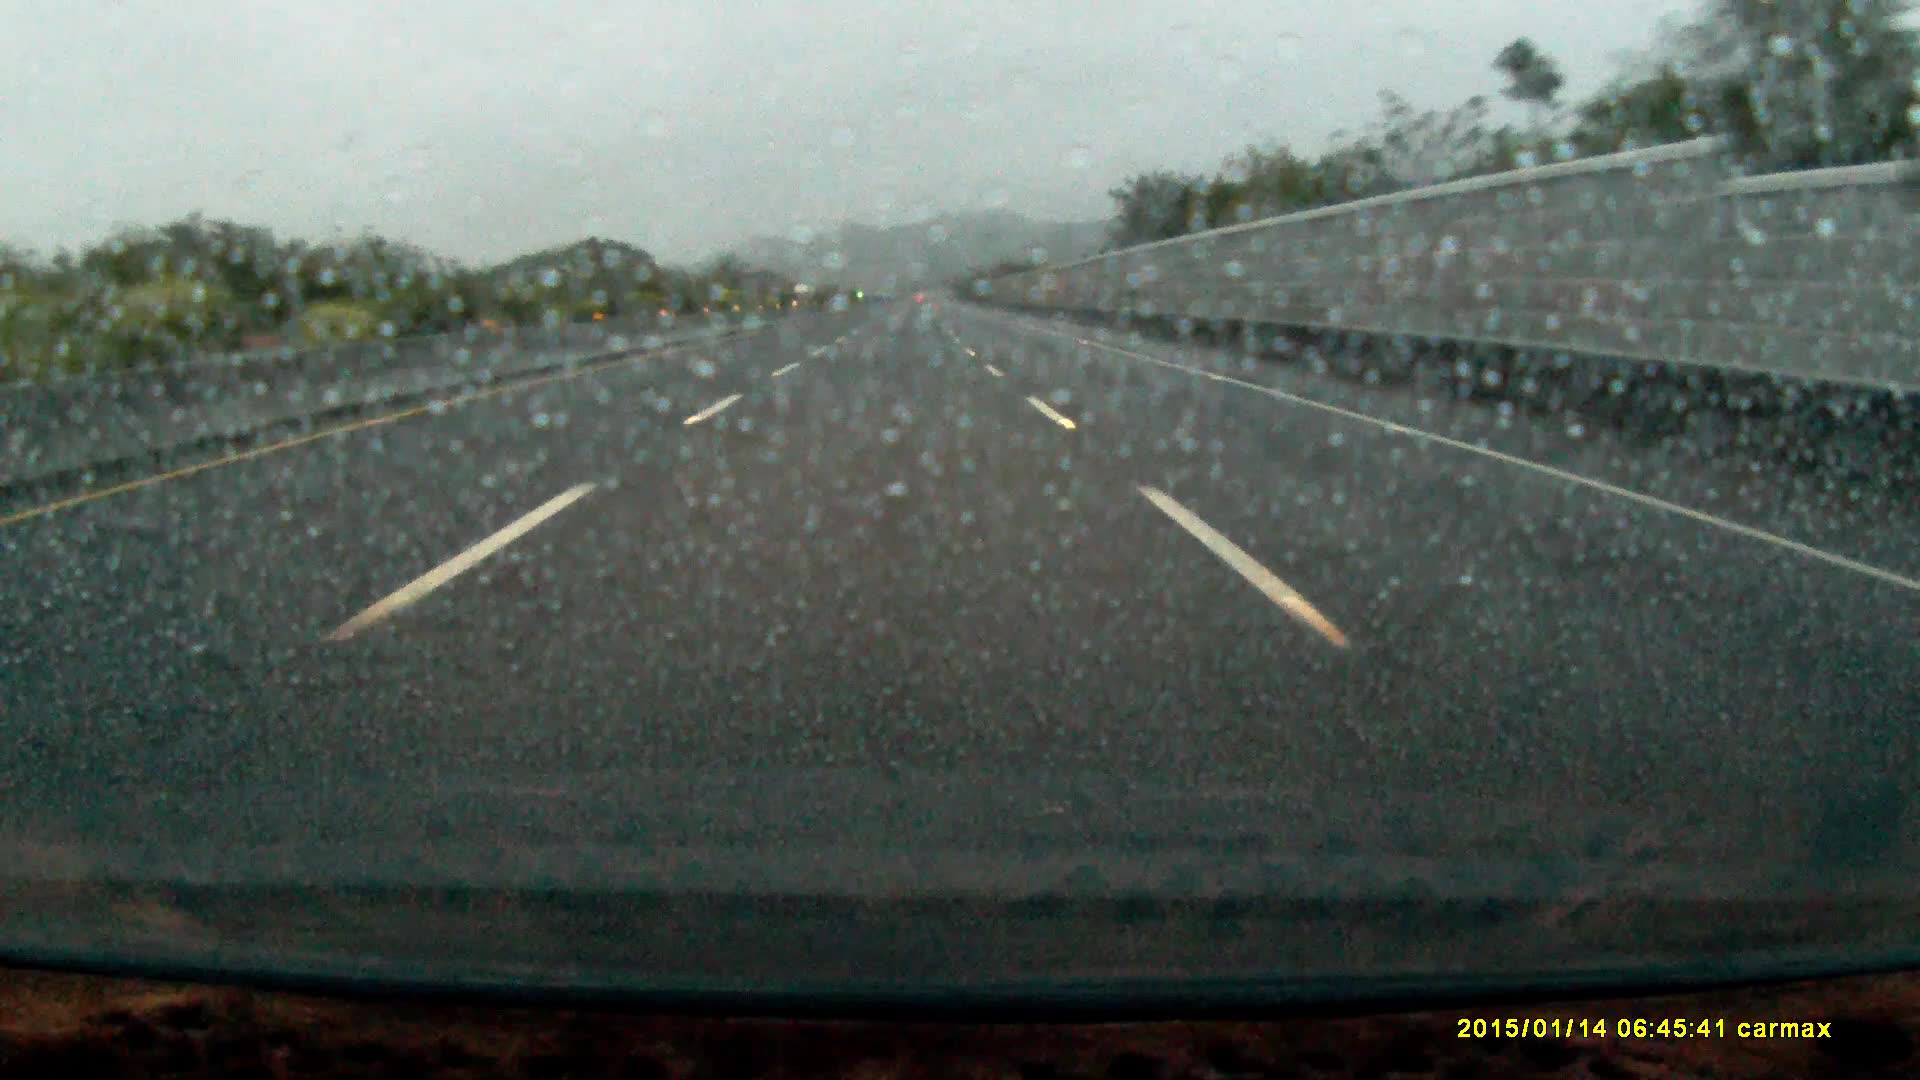vehicle: (791, 284, 816, 309)
